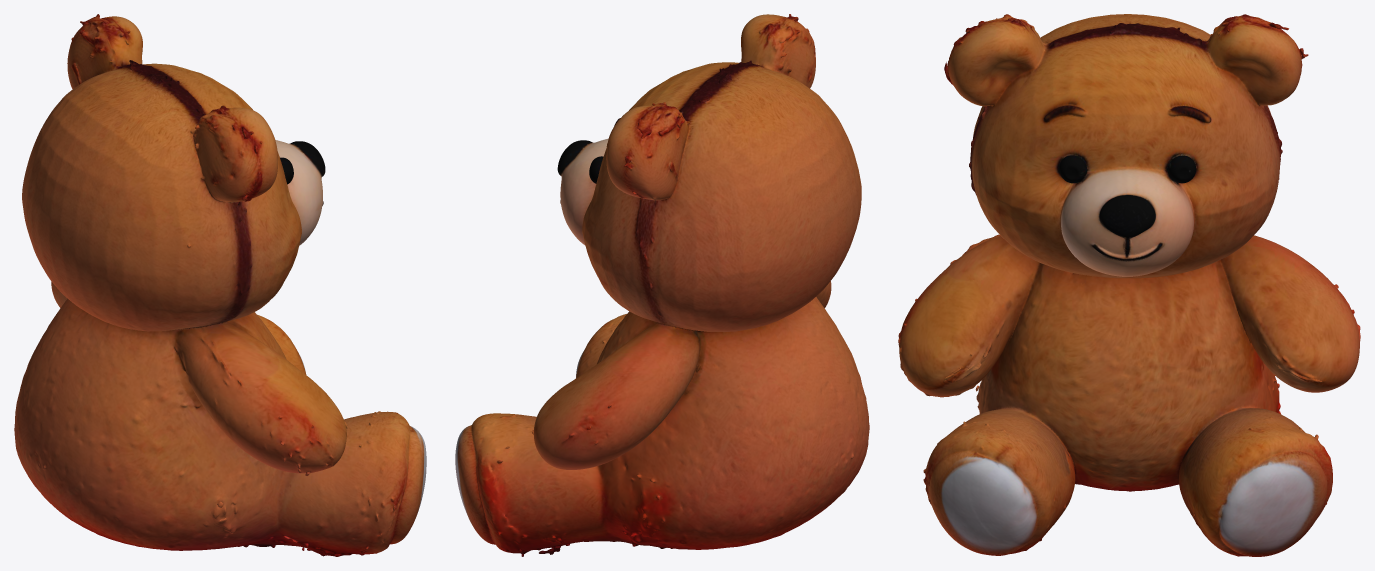
Rendered from 8a846eea-cc5b-470f-a450-a1290ebd554c.glb.
3 views of the same model, side by side, from view 1: azimuth 30°, elevation 25°; view 2: azimuth 150°, elevation 25°; view 3: azimuth 270°, elevation 25° (orthographic).
Parts seen in each view (by area): view 1: tripo_node_8a846eea-cc5b-470f-a450-a1290ebd554c; view 2: tripo_node_8a846eea-cc5b-470f-a450-a1290ebd554c; view 3: tripo_node_8a846eea-cc5b-470f-a450-a1290ebd554c.
Boxes of the visible parts, x1,y1,x2,y2 form: tripo_node_8a846eea-cc5b-470f-a450-a1290ebd554c: [14, 14, 426, 556]; tripo_node_8a846eea-cc5b-470f-a450-a1290ebd554c: [455, 14, 869, 556]; tripo_node_8a846eea-cc5b-470f-a450-a1290ebd554c: [898, 14, 1360, 556].
Bounding box in the file's own units: 0.7224 × 1 × 0.8927.
1 material, 1 textured.
